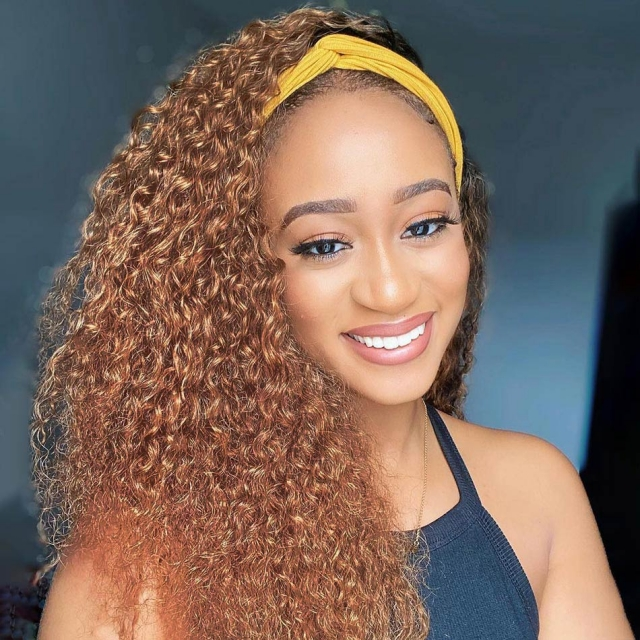human: (262, 79, 474, 407)
